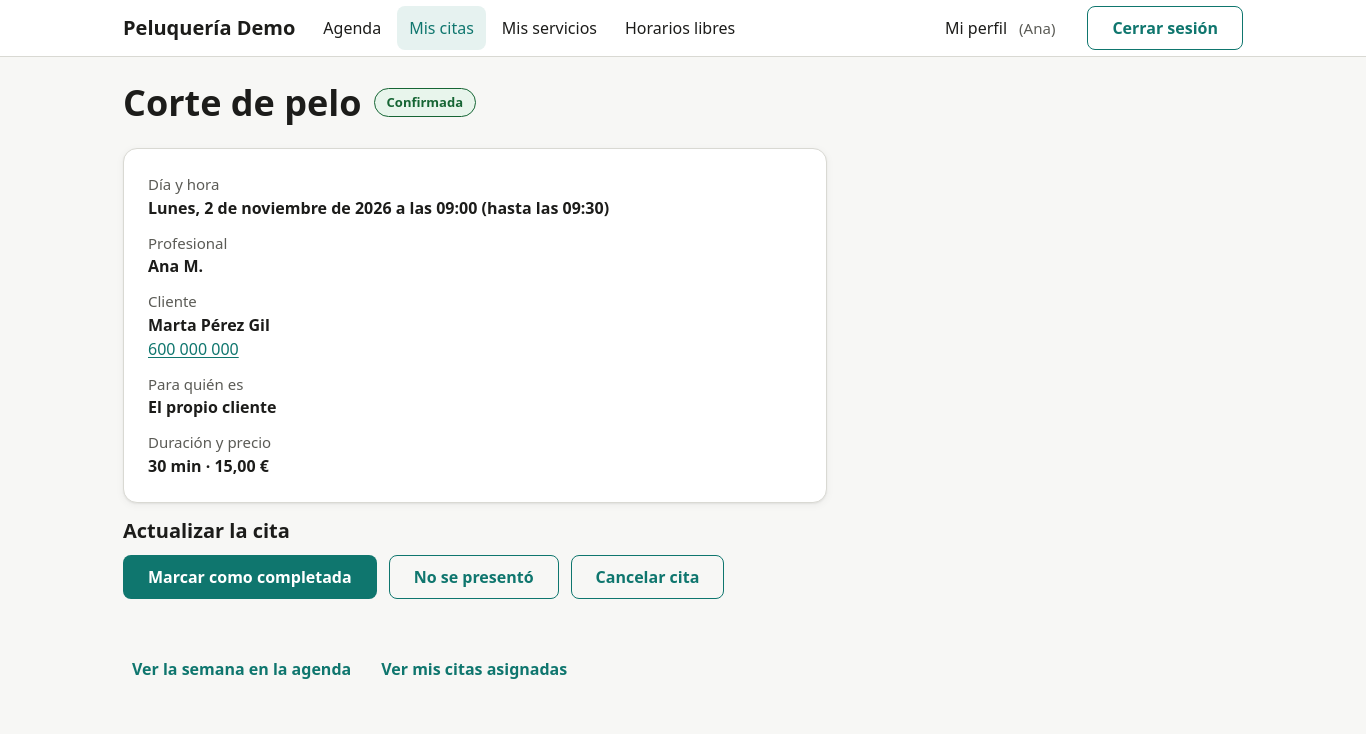
Test: detalle y cambio de estado (CU-015) › muestra el mensaje del servidor si rechaza el cambio (422)
What coordinates should you click on to do the following:
click the button "No se presentó"
I would click on:
 (474, 577)
Its box is [389,555,558,599].
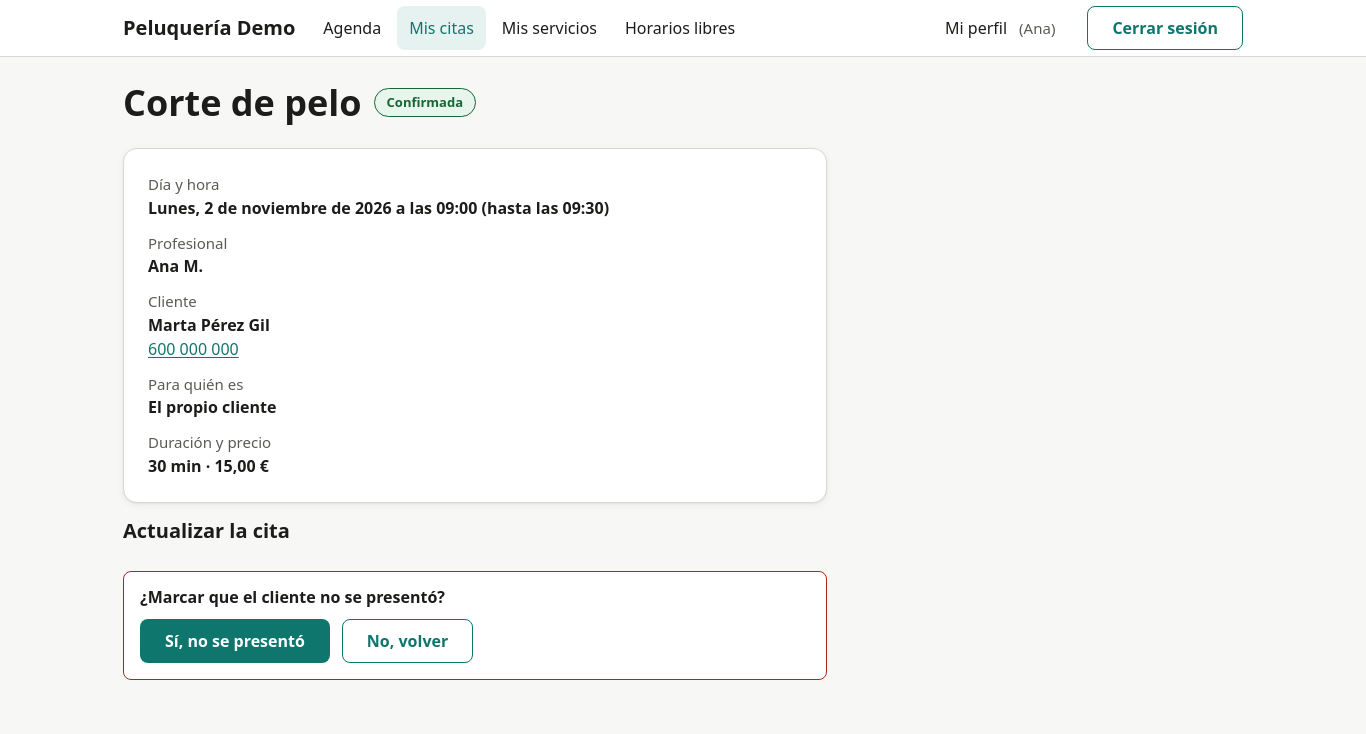
What coordinates should you click on to do the following:
click the button "Sí, no se presentó"
I would click on:
 (235, 641)
Its box is [140,619,330,663].
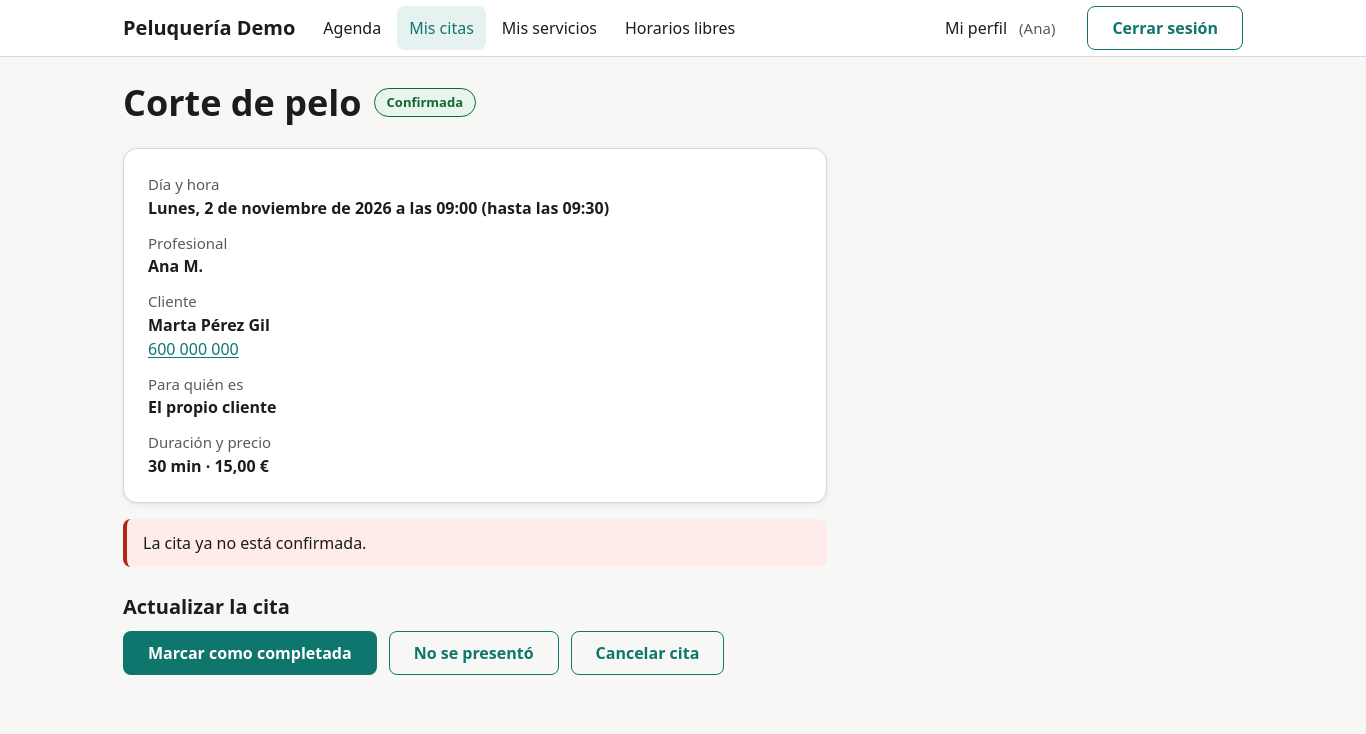
Result: the text "La cita ya no está confirmada." is shown at [123,519,827,567]
